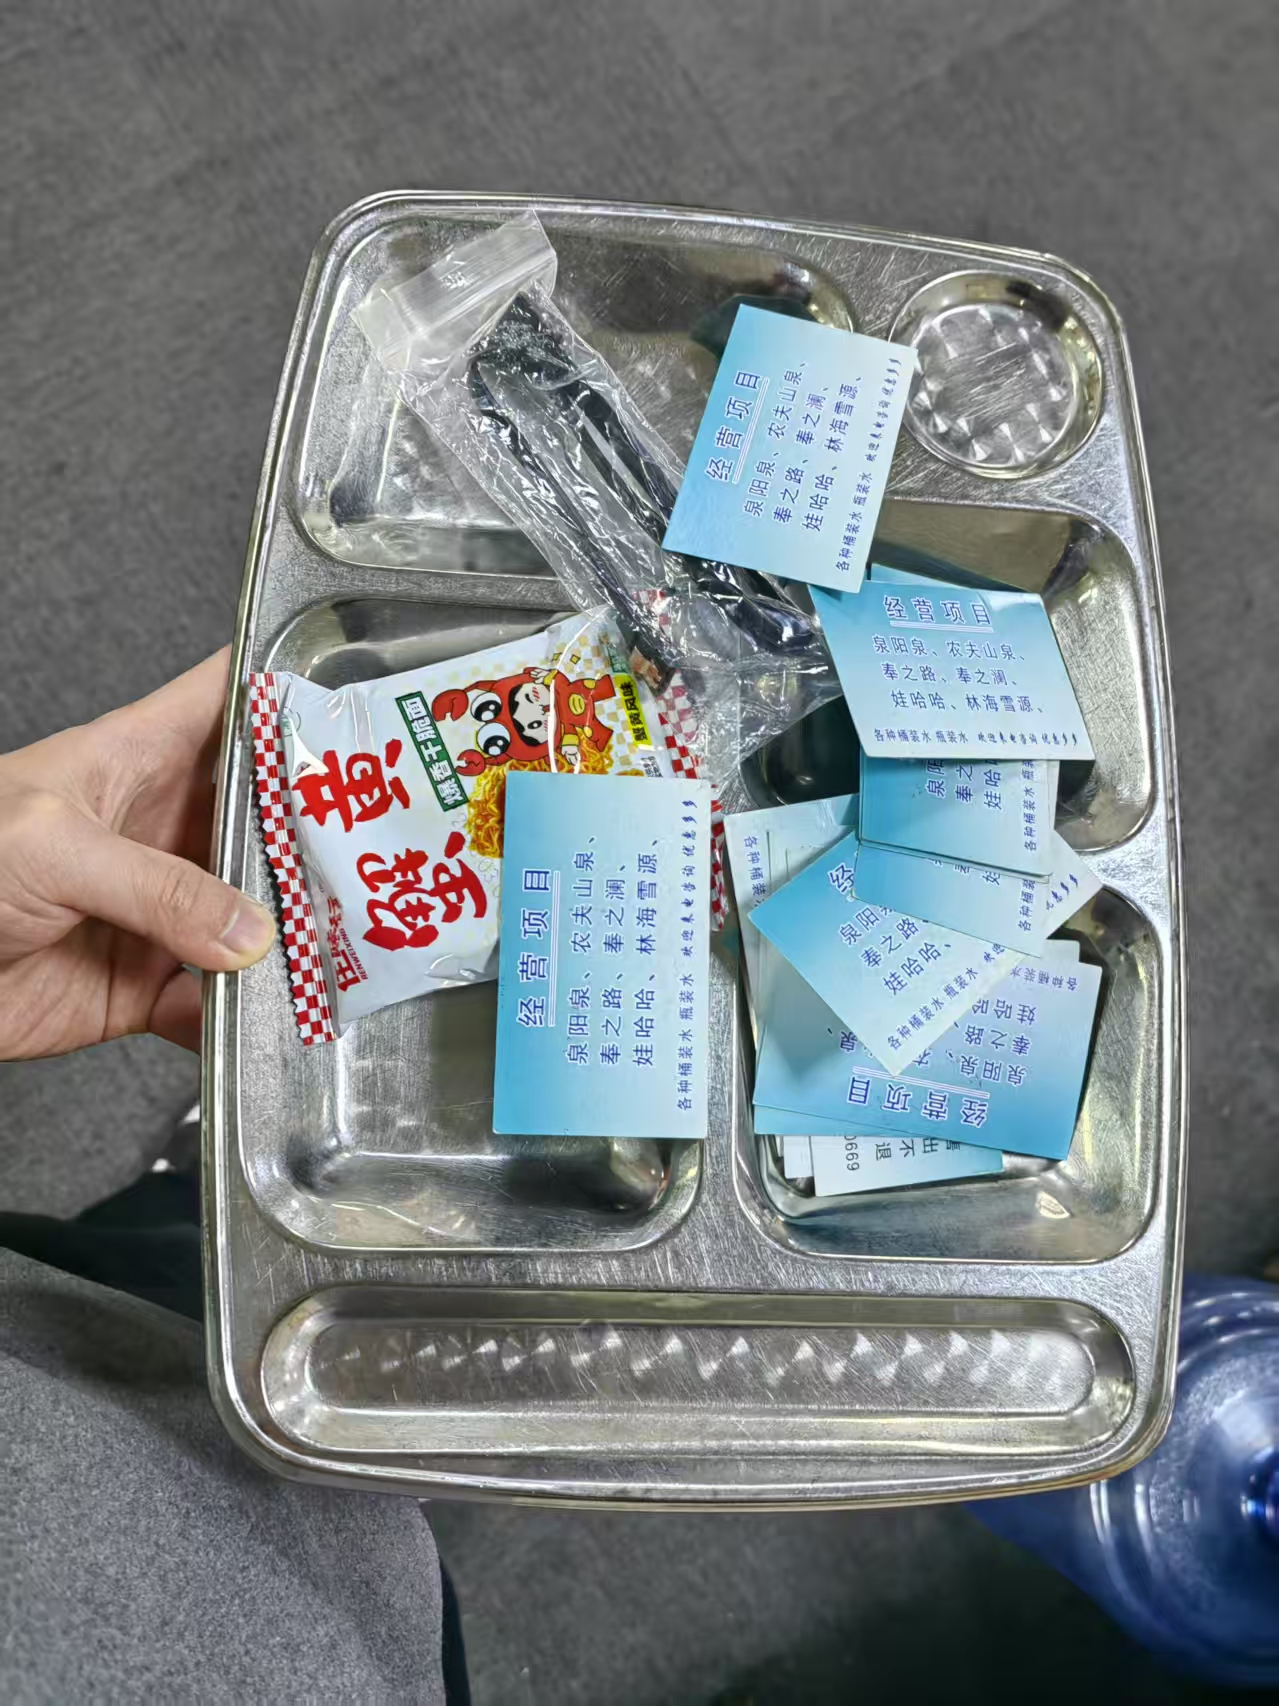plate: (200, 190, 1195, 1516)
severe: (249, 221, 1100, 1195)
